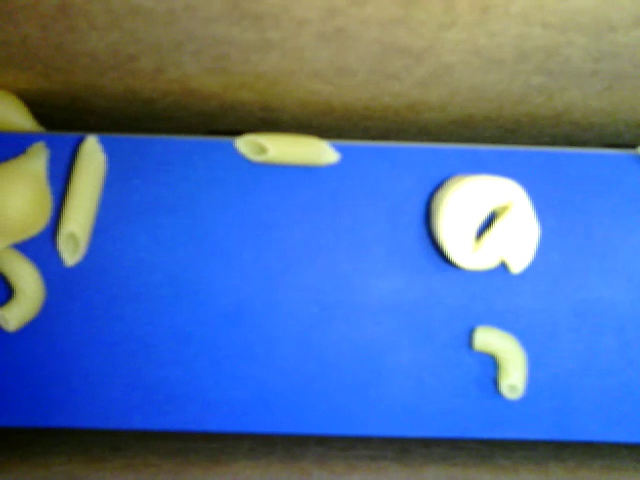elbow: (1, 247, 54, 335), (470, 324, 528, 399)
penne: (55, 127, 108, 268), (229, 128, 343, 167)
shell: (1, 136, 56, 248), (1, 89, 50, 134)
tortellini: (427, 171, 541, 273)
